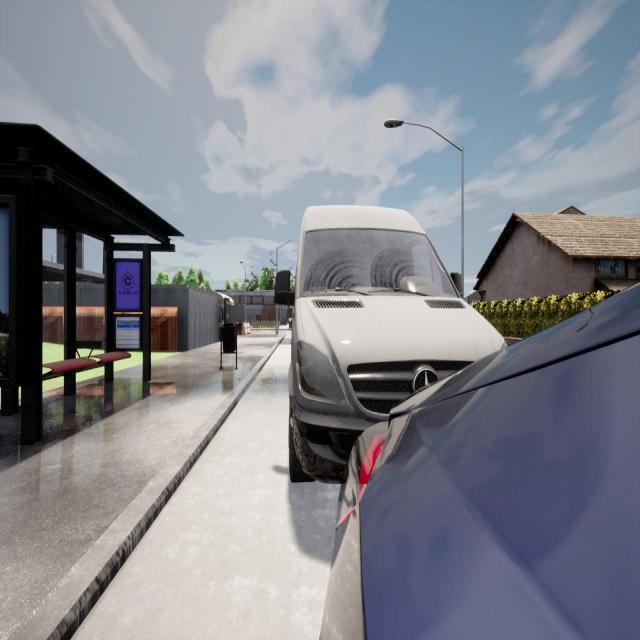Vehicle: (320, 280, 640, 639), (271, 206, 508, 478)
